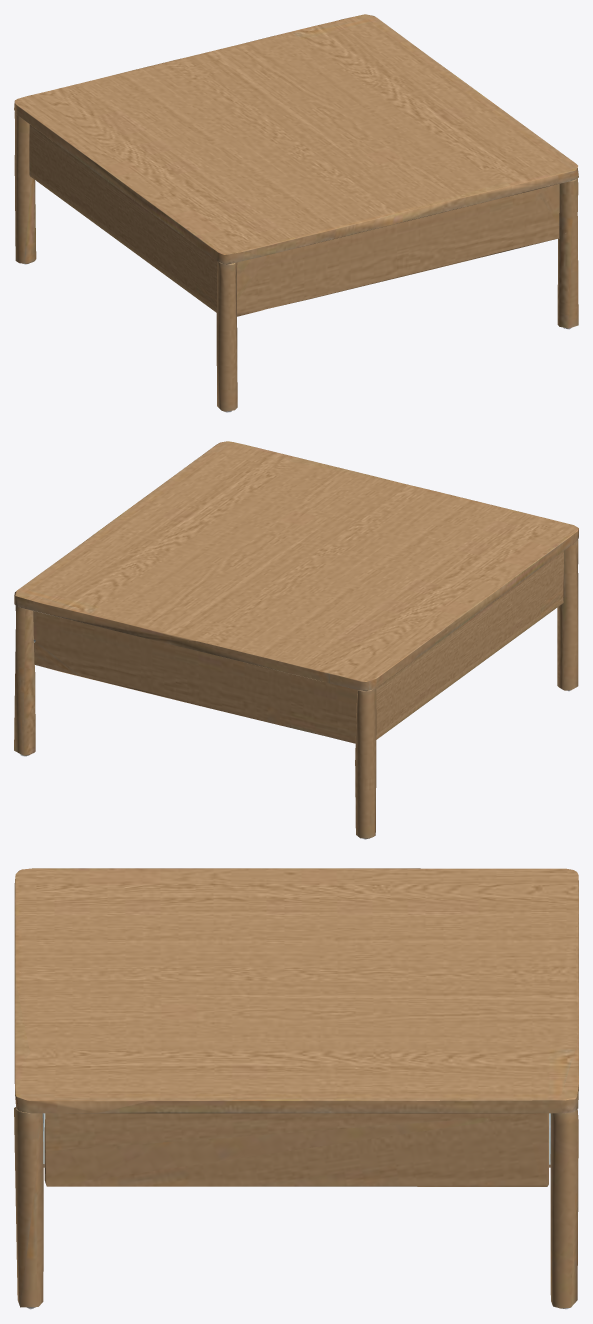
Rendered from coffeetable.glb.
The picture shows the model from 3 angles, top to bottom: view 1: azimuth 30°, elevation 25°; view 2: azimuth 150°, elevation 25°; view 3: azimuth 270°, elevation 25°; orthographic projection. The views are drawn at different scales.
Visible parts, largest first — view 1: ASY_ART_10489311_S01_NV01, ASY_LPT02_10489311_S01_NV01; view 2: ASY_ART_10489311_S01_NV01, ASY_LPT02_10489311_S01_NV01; view 3: ASY_ART_10489311_S01_NV01, ASY_LPT01_10489311_S01_NV01.
Boxes of the visible parts, x1=… form: ASY_ART_10489311_S01_NV01: x1=14, y1=14, x2=578, y2=412; ASY_LPT02_10489311_S01_NV01: x1=29, y1=124, x2=217, y2=312; ASY_ART_10489311_S01_NV01: x1=14, y1=441, x2=578, y2=839; ASY_LPT02_10489311_S01_NV01: x1=376, y1=551, x2=563, y2=739; ASY_ART_10489311_S01_NV01: x1=14, y1=868, x2=578, y2=1309; ASY_LPT01_10489311_S01_NV01: x1=44, y1=1113, x2=548, y2=1186.
Size of the model in its own units: 0.8219 by 0.3499 by 0.8446.
3 materials, 3 textured.
